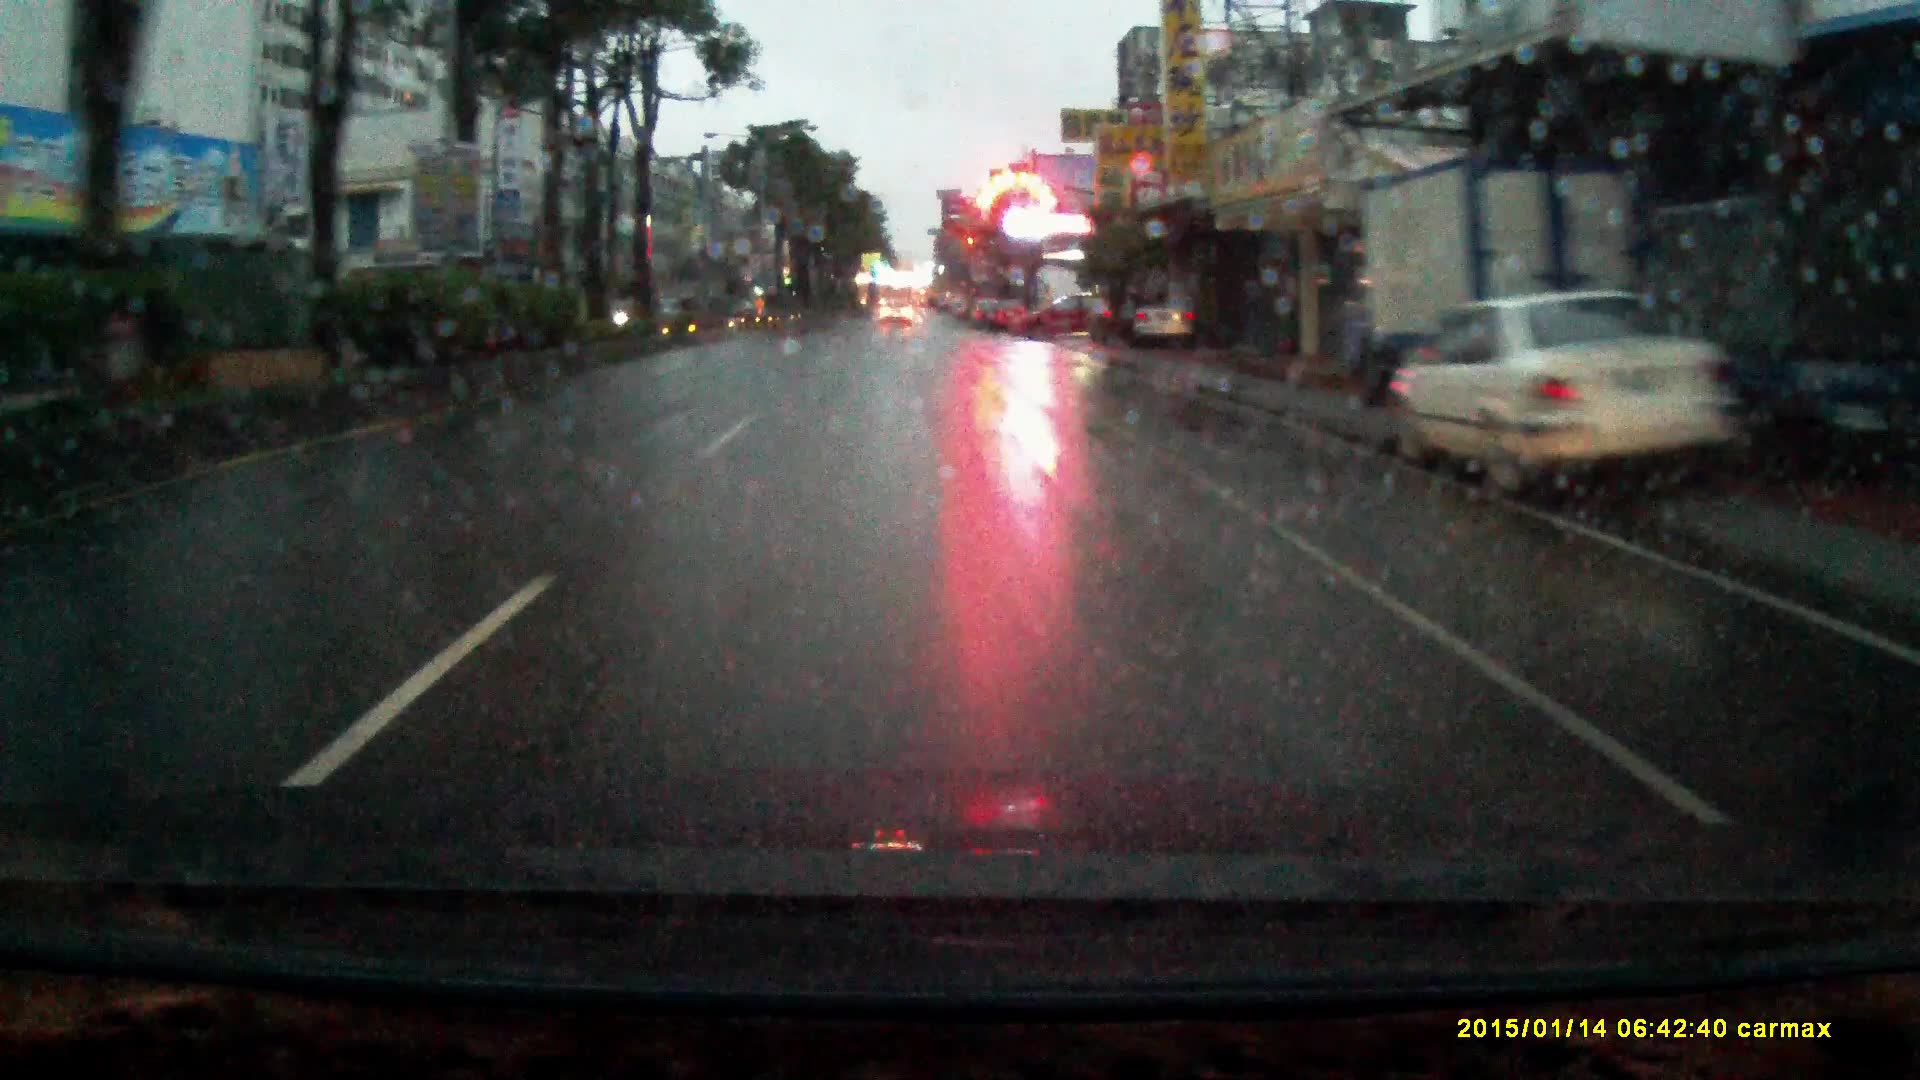vehicle: (1335, 127, 1677, 411), (1382, 290, 1756, 500), (1009, 291, 1112, 342), (1120, 291, 1197, 345), (1087, 291, 1153, 342), (985, 298, 1029, 331), (881, 301, 913, 328)
